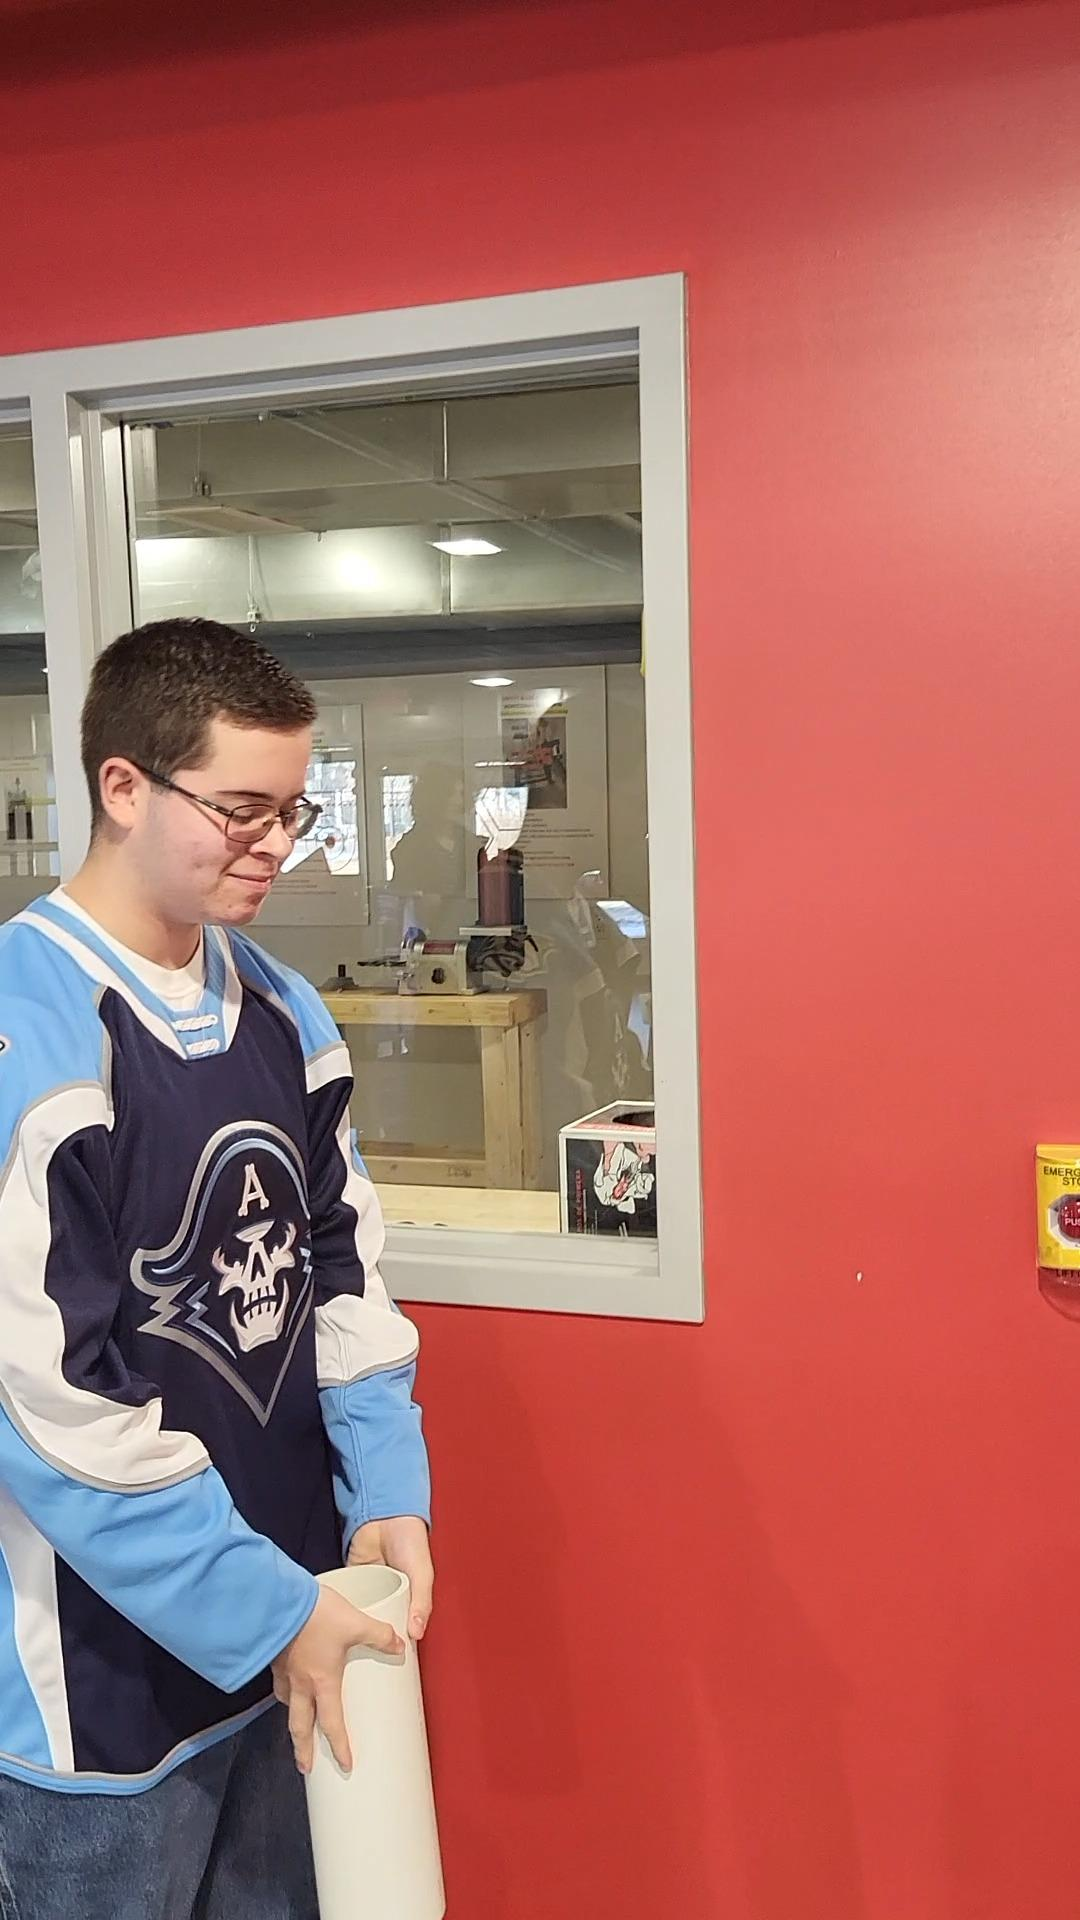coral: (273, 1549, 463, 1920)
